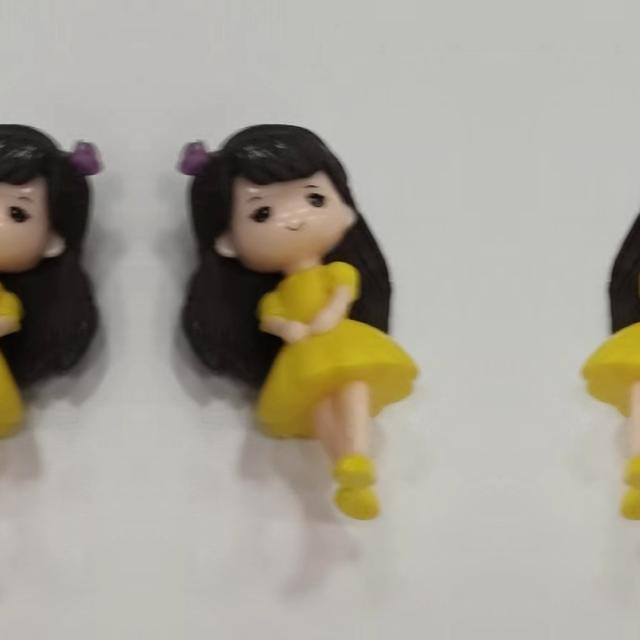woman dress: (261, 255, 413, 520), (587, 255, 640, 520), (0, 255, 19, 520)
woman head: (170, 126, 358, 274), (0, 126, 110, 273)
